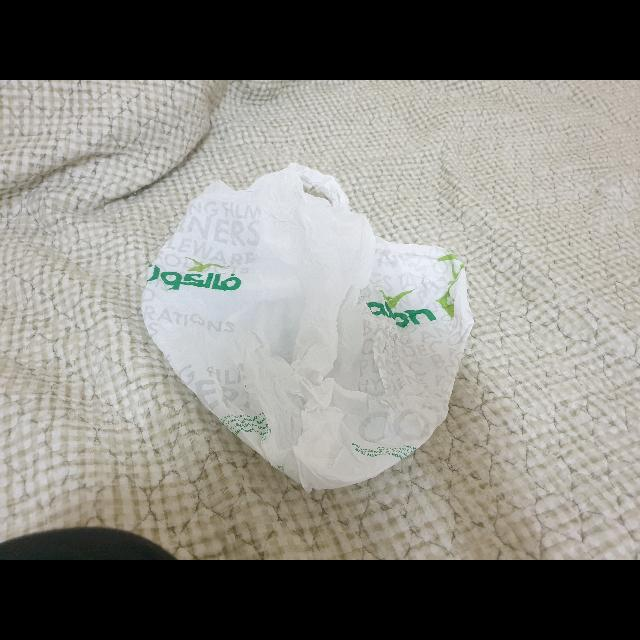plastic_bag: (138, 162, 482, 498)
